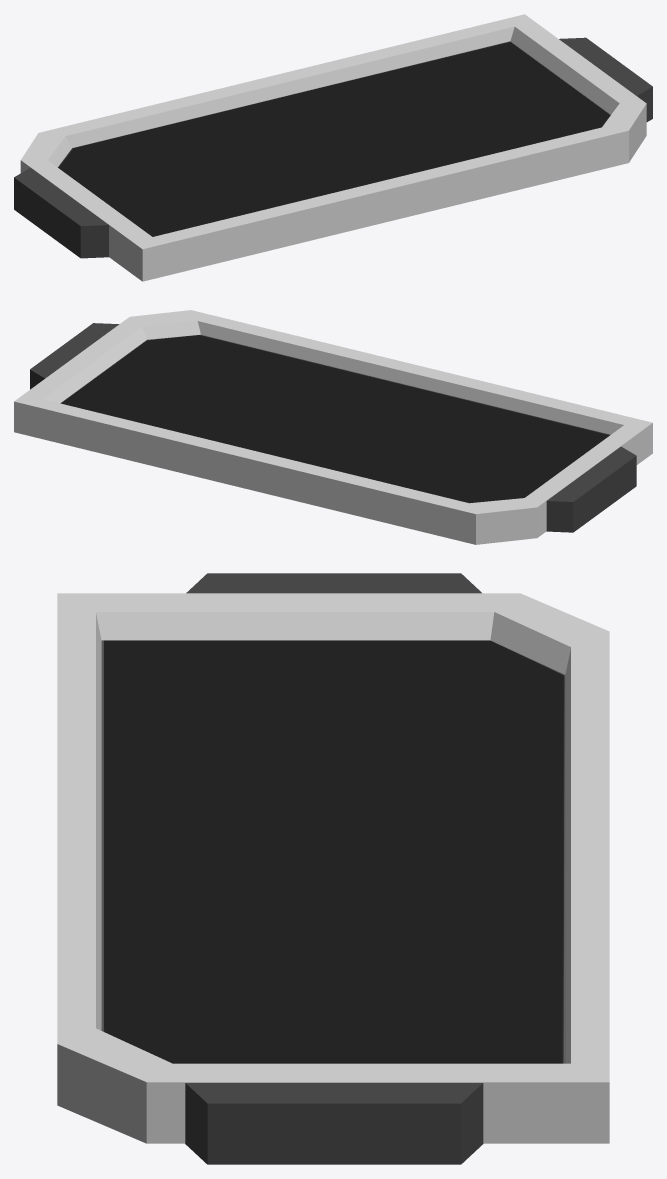
The model's file is Initial_Environment_Signage_Ver2.fbx.
The picture shows the model from 3 angles, top to bottom: view 1: azimuth 30°, elevation 25°; view 2: azimuth 150°, elevation 25°; view 3: azimuth 270°, elevation 25°; orthographic projection. The views are drawn at different scales.
Parts seen in each view (by area): view 1: Plane; view 2: Plane; view 3: Plane.
Boxes of the visible parts, x1=… form: Plane: x1=14, y1=14, x2=652, y2=281; Plane: x1=14, y1=310, x2=652, y2=544; Plane: x1=57, y1=573, x2=609, y2=1164.
Size of the model in its own units: 115 by 6.27 by 50.7.
2 materials, 2 textured.
